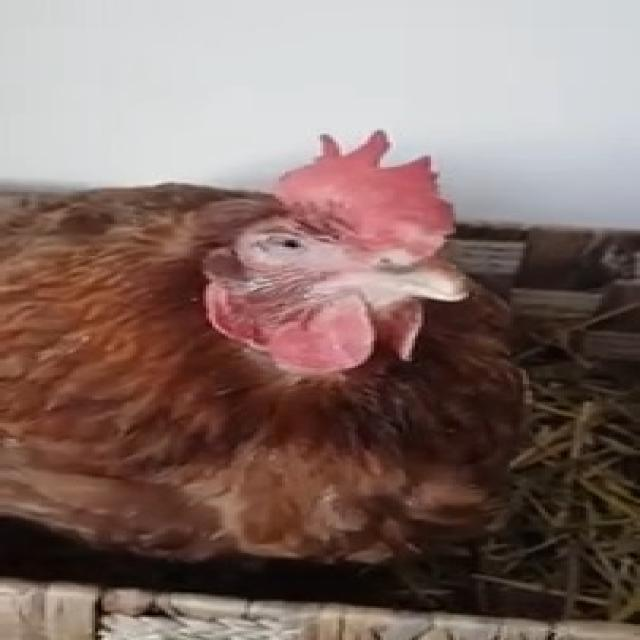bird flu: (0, 124, 573, 574)
